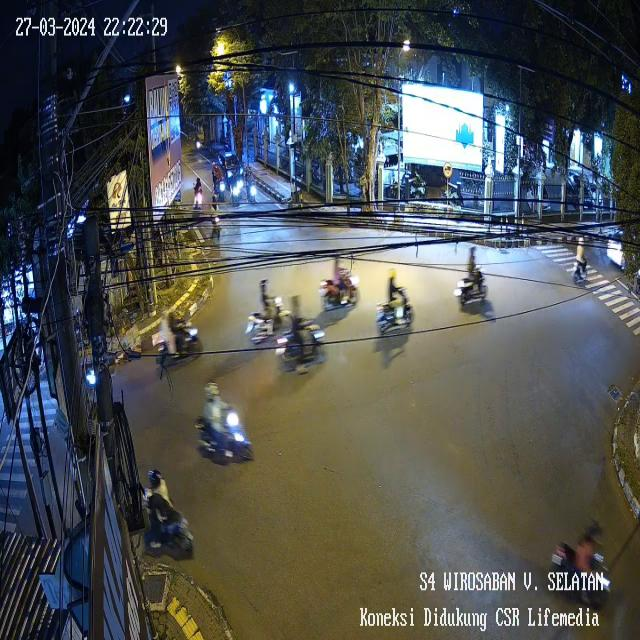car: (604, 228, 638, 272), (215, 145, 247, 179)
motorcycle: (192, 378, 257, 472), (552, 516, 616, 608), (137, 465, 197, 559), (373, 263, 422, 346), (276, 296, 324, 376), (243, 276, 294, 350), (153, 301, 204, 372), (451, 245, 493, 318), (319, 251, 361, 318), (570, 233, 591, 292), (206, 197, 224, 242), (192, 166, 206, 222), (193, 128, 203, 160)
